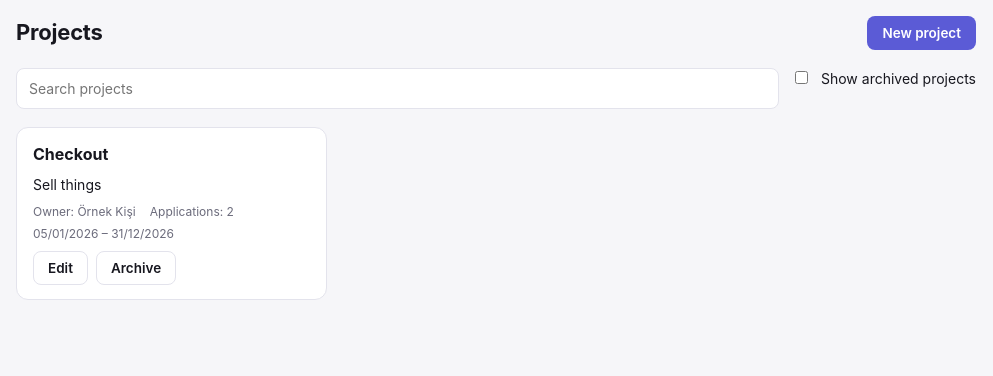
the projects page › archives after a confirmation and reloads, restores an archived one, and shows the API's refusal
The image size is (993, 376).
Click the button "Archive".
click(136, 268)  # box [96,251,176,285]
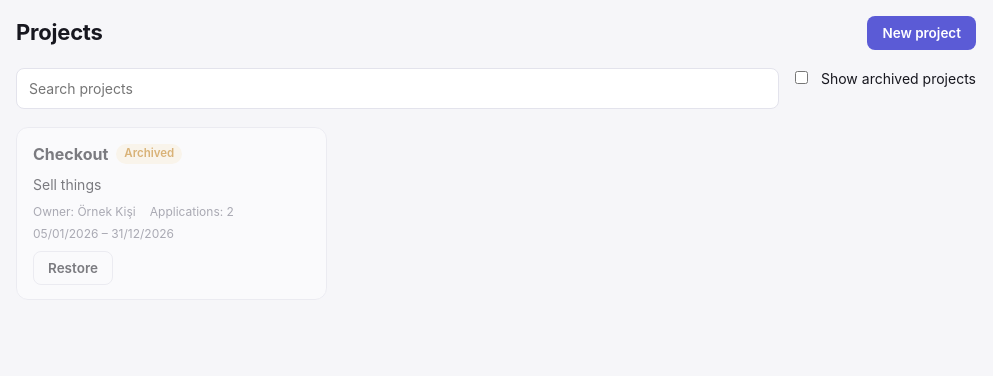
Check: the text "Archived" is shown, box [116,144,182,164]
Click the button "Restore".
click(73, 268)  # box [33,251,113,285]
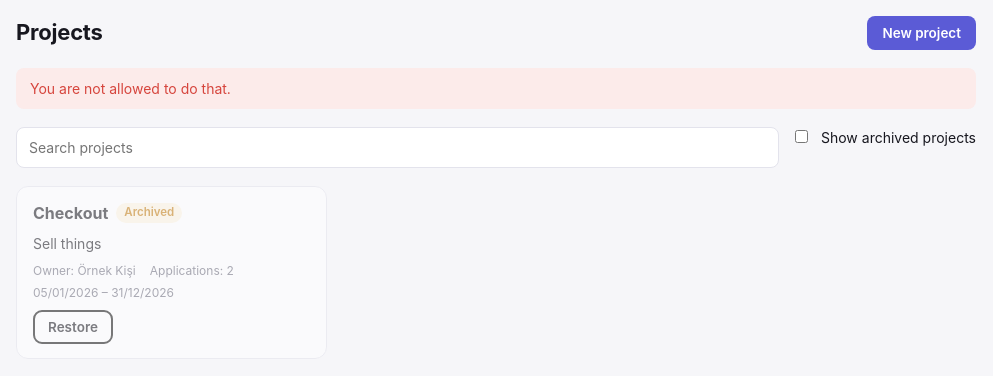
Check: the text "You are not allowed to do that." is shown, box [16,68,976,109]
